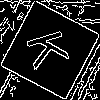K: (25, 25, 79, 71)
